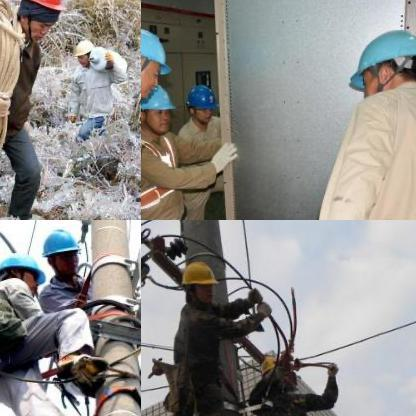Helmet: (348, 19, 415, 104), (37, 224, 81, 278), (0, 251, 49, 296), (11, 0, 68, 38), (178, 255, 218, 306), (141, 79, 177, 135), (141, 21, 167, 96), (184, 80, 218, 126), (257, 352, 291, 386), (73, 36, 93, 64)
